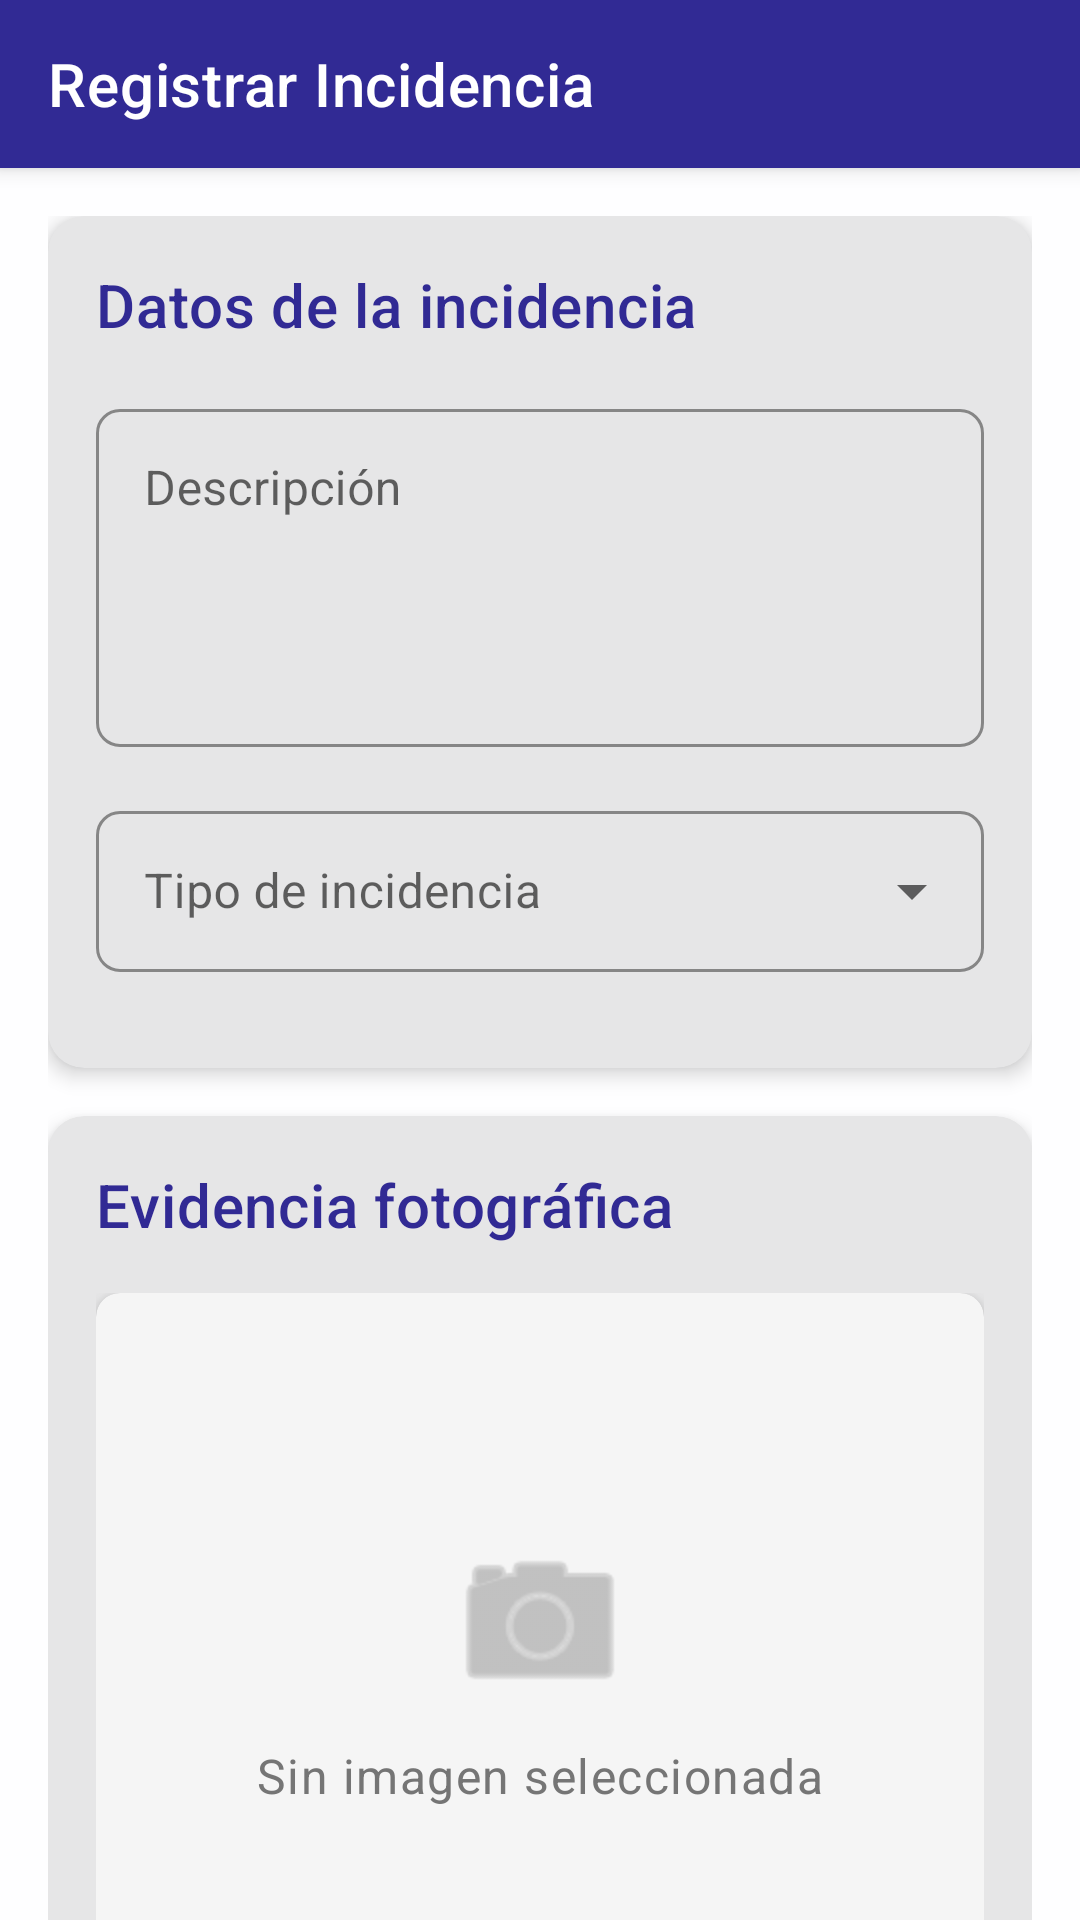

Icon click points for this 1080px x 1920px phone screenshot, format (x=x, y=y):
camera: (x=540, y=1620)
